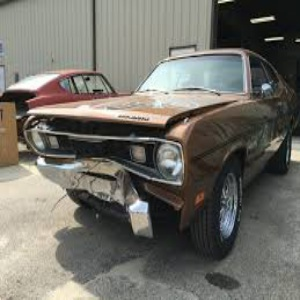bumper: (82, 162, 154, 239)
